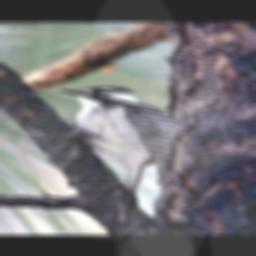Woodpecker: (54, 86, 178, 193)
